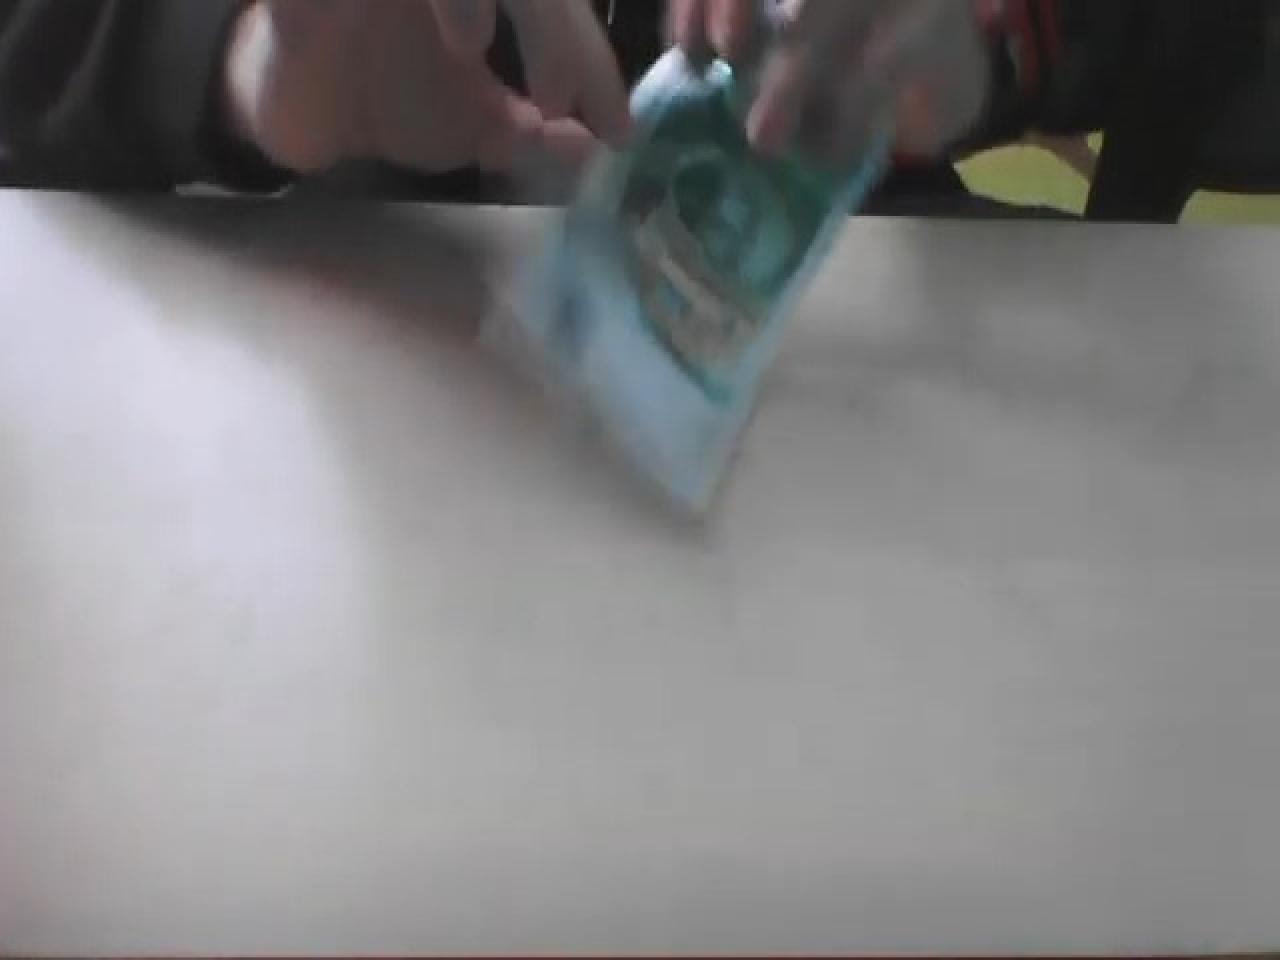100leva: (488, 45, 886, 528)
